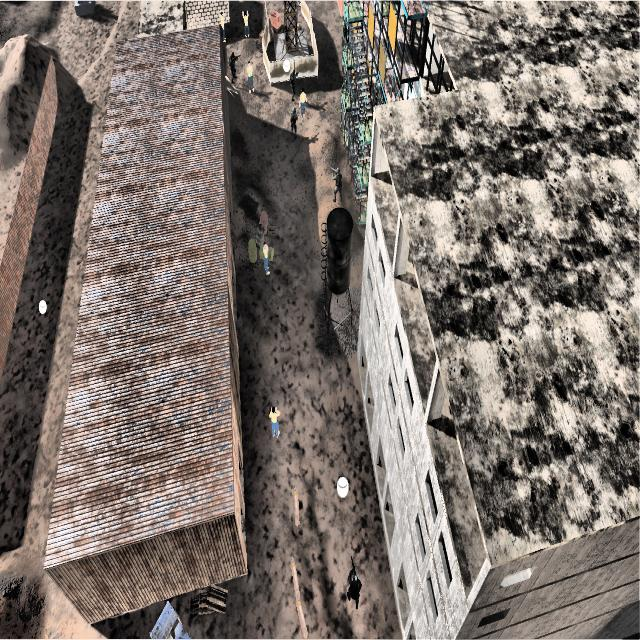bad: (343, 563, 364, 613), (326, 158, 346, 204), (227, 47, 241, 85), (286, 64, 298, 100), (289, 105, 299, 138)
good: (268, 401, 284, 444), (260, 236, 274, 278), (297, 85, 310, 119), (240, 7, 252, 39), (218, 10, 229, 43), (246, 59, 256, 94)
